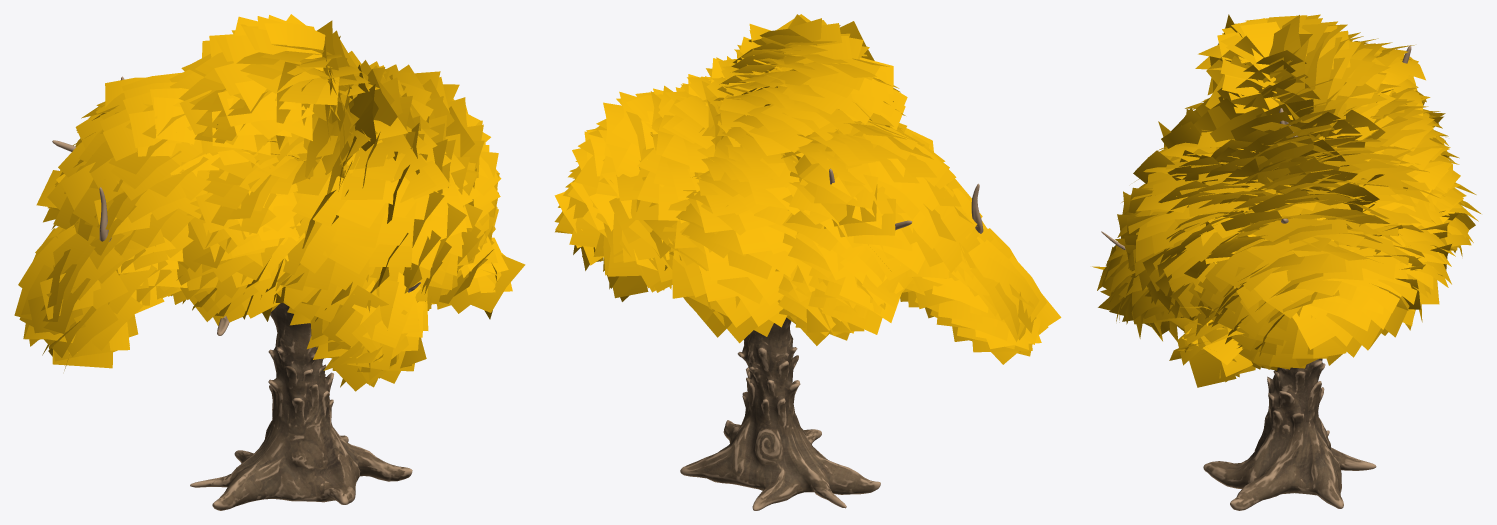
File: free_stylized_tree_asset.glb
3 renders of one model, left to right at view 1: azimuth 30°, elevation 25°; view 2: azimuth 150°, elevation 25°; view 3: azimuth 270°, elevation 25°, orthographic. The views are drawn at different scales.
Visible parts, largest first — view 1: Farm_Tree_Leaves, Farm_Tree_Body_low; view 2: Farm_Tree_Leaves, Farm_Tree_Body_low; view 3: Farm_Tree_Leaves, Farm_Tree_Body_low.
Part boxes in pixels (bbox=[...]): Farm_Tree_Leaves: bbox=[14, 14, 525, 391]; Farm_Tree_Body_low: bbox=[52, 76, 420, 510]; Farm_Tree_Leaves: bbox=[554, 14, 1061, 364]; Farm_Tree_Body_low: bbox=[680, 168, 983, 510]; Farm_Tree_Leaves: bbox=[1092, 14, 1480, 387]; Farm_Tree_Body_low: bbox=[1101, 45, 1411, 510].
Size of the model in its own units: 15.56 by 14.92 by 11.71.
2 materials, 2 textured.
